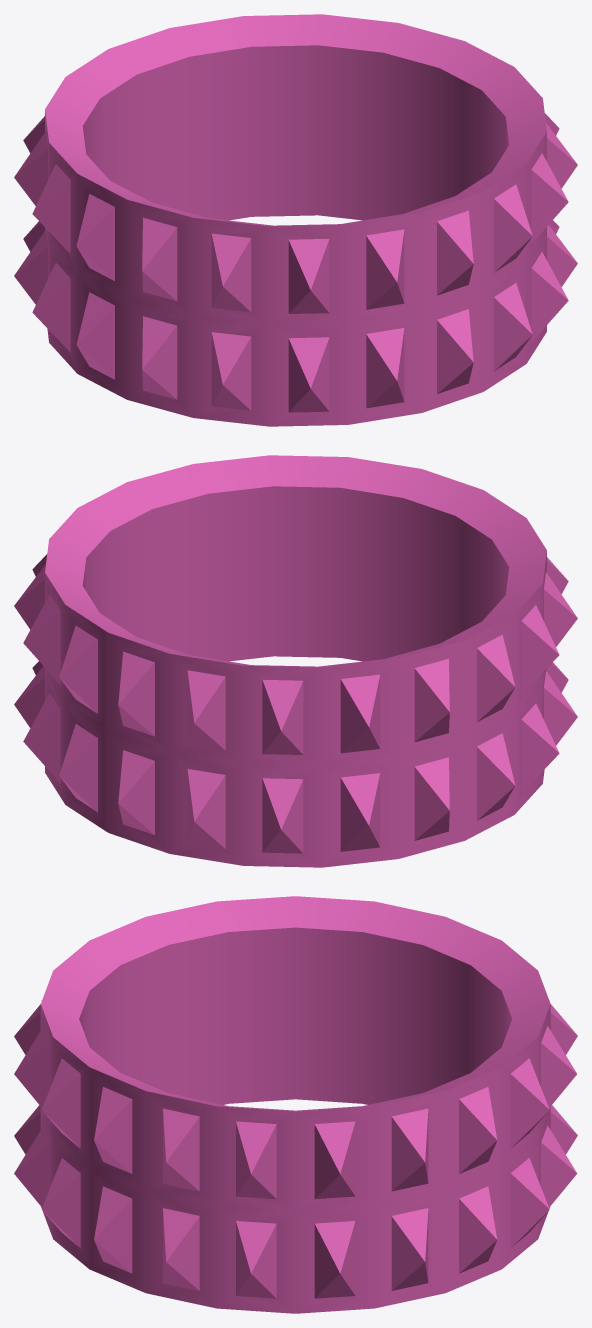
The model's file is SM_Brsaslet.fbx.
3 renders of one model, top to bottom at view 1: azimuth 30°, elevation 25°; view 2: azimuth 150°, elevation 25°; view 3: azimuth 270°, elevation 25°, orthographic.
Visible parts, largest first — view 1: SM_Brsaslet; view 2: SM_Brsaslet; view 3: SM_Brsaslet.
Boxes of the visible parts, x1=… form: SM_Brsaslet: x1=14, y1=14, x2=577, y2=426; SM_Brsaslet: x1=14, y1=455, x2=577, y2=867; SM_Brsaslet: x1=14, y1=896, x2=577, y2=1313.
Size of the model in its own units: 17.63 by 17.65 by 6.98.
Materials: 1 (1 with a texture image).
